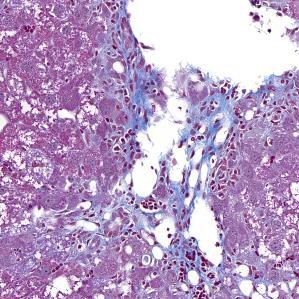fibrosis: (179, 94, 243, 159)
